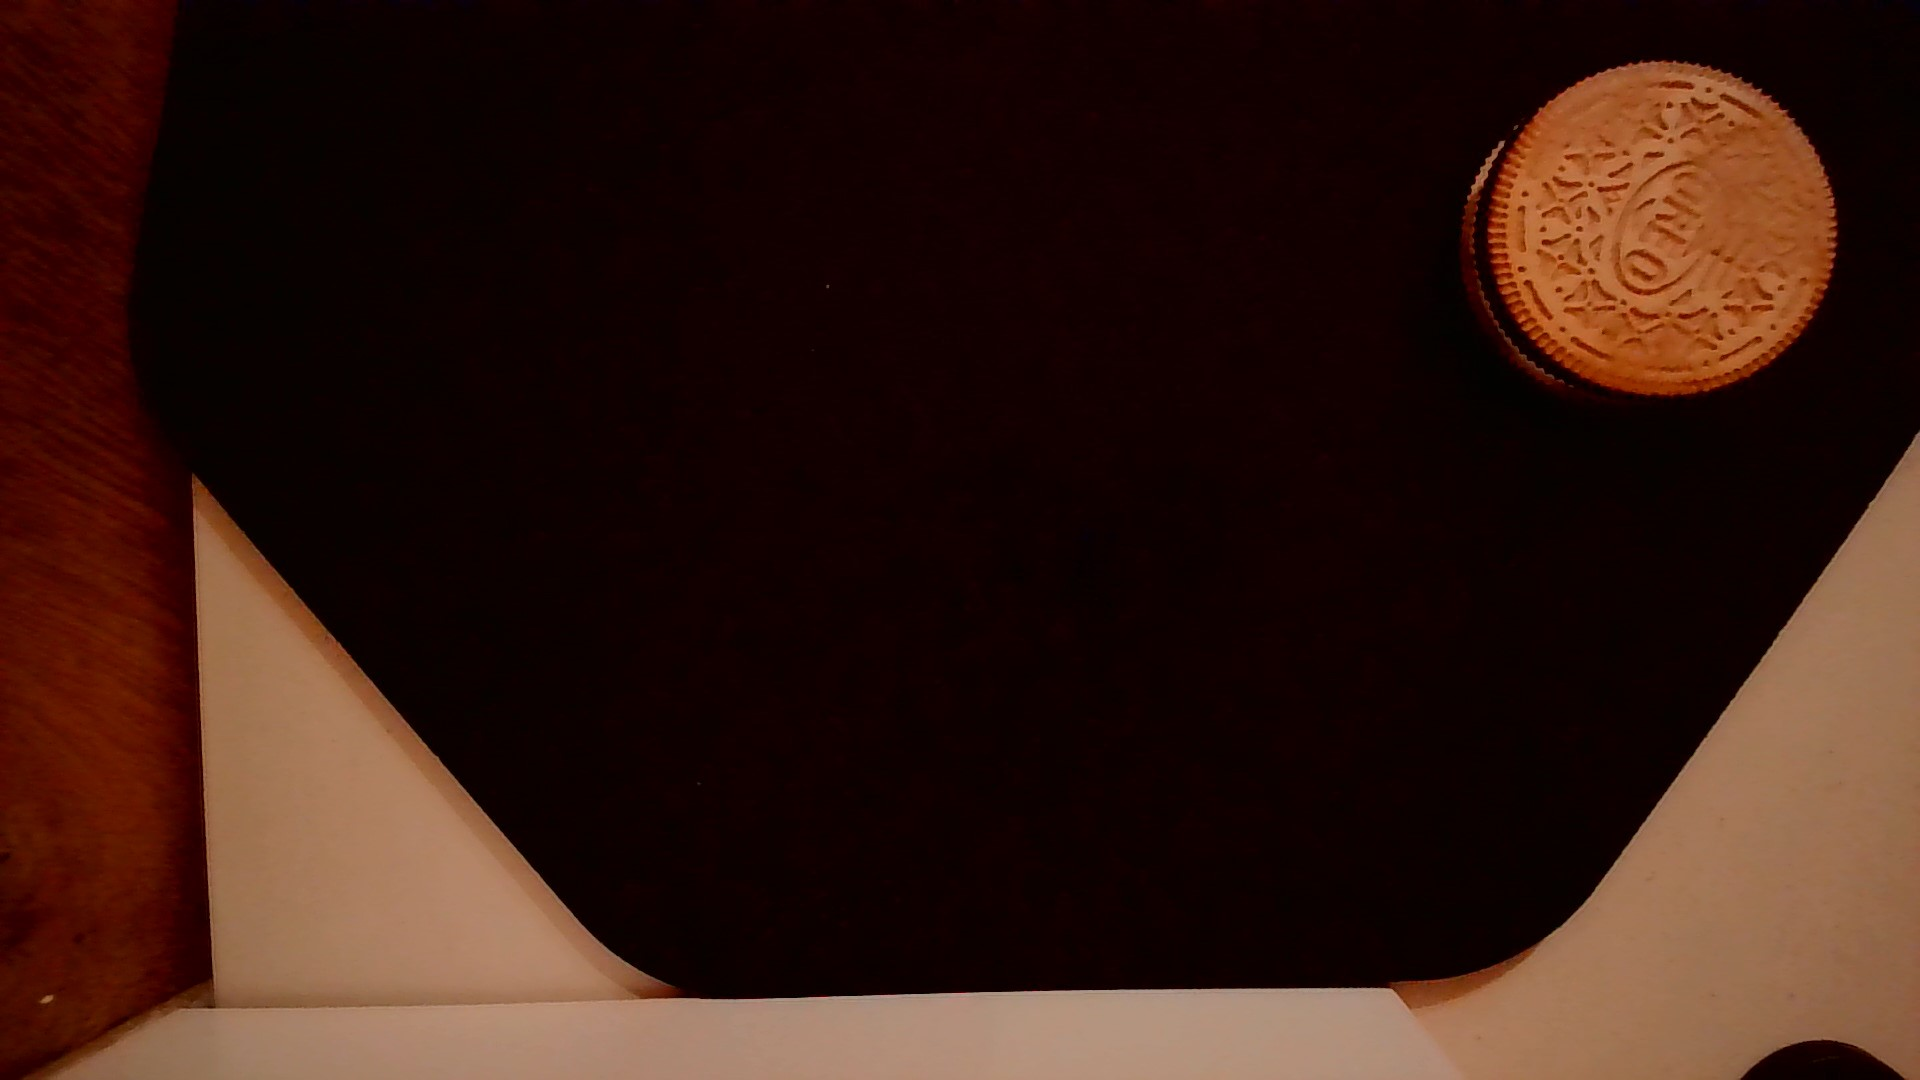Effacé: (1705, 117, 1834, 266), (1509, 65, 1644, 170), (1592, 307, 1724, 386)
Oréo: (1445, 45, 1842, 405)
